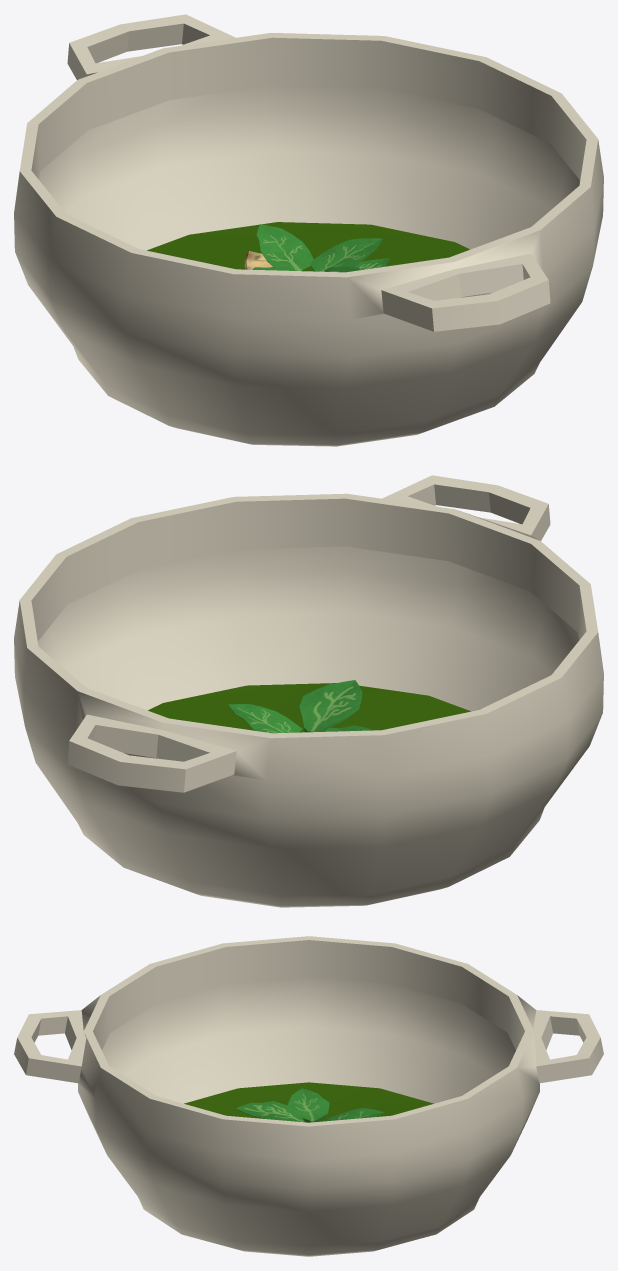
The model's file is cremaespinaca2.glb.
3 renders of one model, top to bottom at view 1: azimuth 30°, elevation 25°; view 2: azimuth 150°, elevation 25°; view 3: azimuth 270°, elevation 25°, orthographic. The views are drawn at different scales.
Visible parts, largest first — view 1: pPlane3, pCube7; view 2: pPlane3, pCube7; view 3: pPlane3, pCube7.
Boxes of the visible parts, x1,y1,x2,y2 form: pPlane3: (14,14,603,446); pCube7: (252,224,389,272); pPlane3: (14,475,603,907); pCube7: (228,680,373,733); pPlane3: (14,936,603,1256); pCube7: (235,1088,384,1122).
Bounding box in the file's own units: 1.35 × 0.5199 × 1.72.
4 materials, 2 textured.
